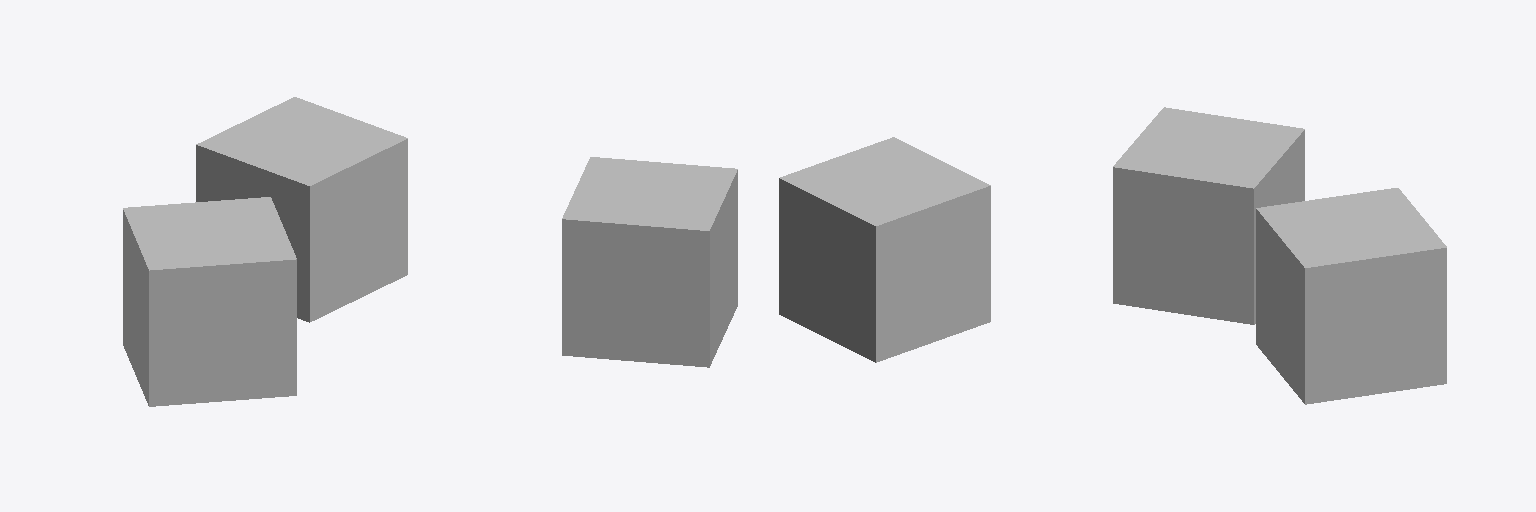
The model's file is cubes.obj.
3 views of the same model, side by side, from view 1: azimuth 30°, elevation 25°; view 2: azimuth 150°, elevation 25°; view 3: azimuth 270°, elevation 25° (orthographic).
Visible parts, largest first — view 1: Cube.006; view 2: Cube.006; view 3: Cube.006.
Boxes of the visible parts, box(x1,y1,x2,y2) form: Cube.006: box(123, 97, 407, 406); Cube.006: box(562, 137, 990, 367); Cube.006: box(1113, 107, 1446, 404).
Bounding box in the file's own units: 1.52 × 0.6 × 1.33.